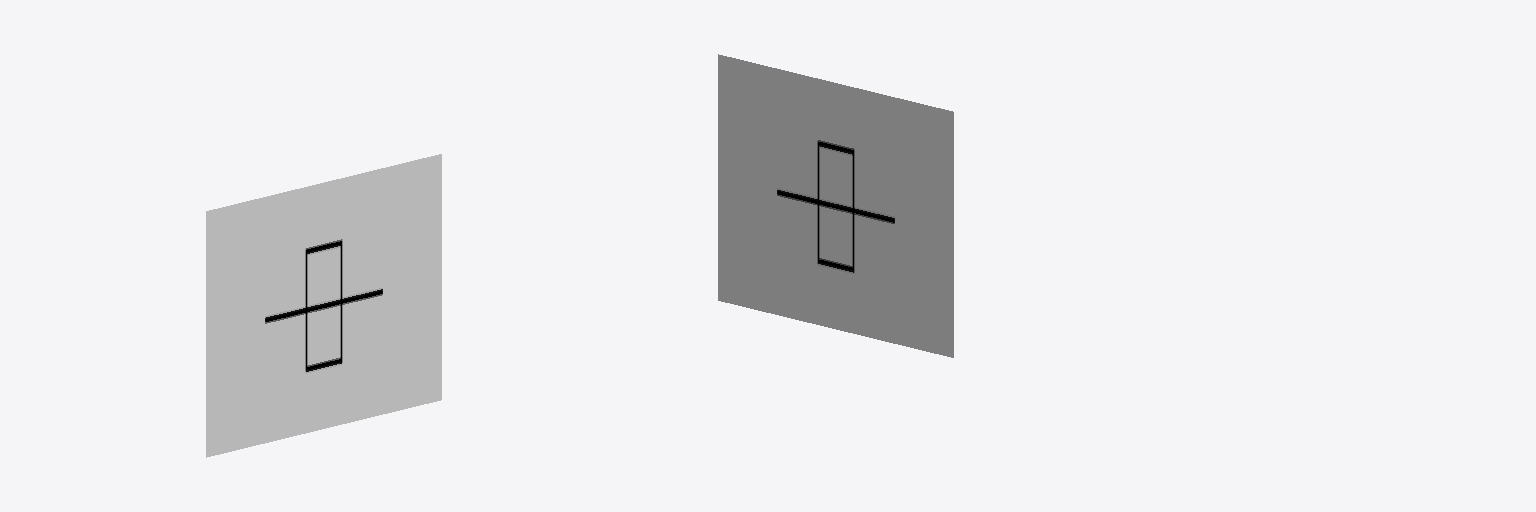
3 views of the same model, side by side, from view 1: azimuth 30°, elevation 25°; view 2: azimuth 150°, elevation 25°; view 3: azimuth 270°, elevation 25° (orthographic).
Visible parts, largest first — view 1: Mesh; view 2: Mesh; view 3: none.
Boxes of the visible parts, box(x1,y1,x2,y2) form: Mesh: box(206, 154, 441, 457); Mesh: box(718, 54, 953, 357).
Size of the model in its own units: 50 by 50 by 50.
2 materials, 2 textured.